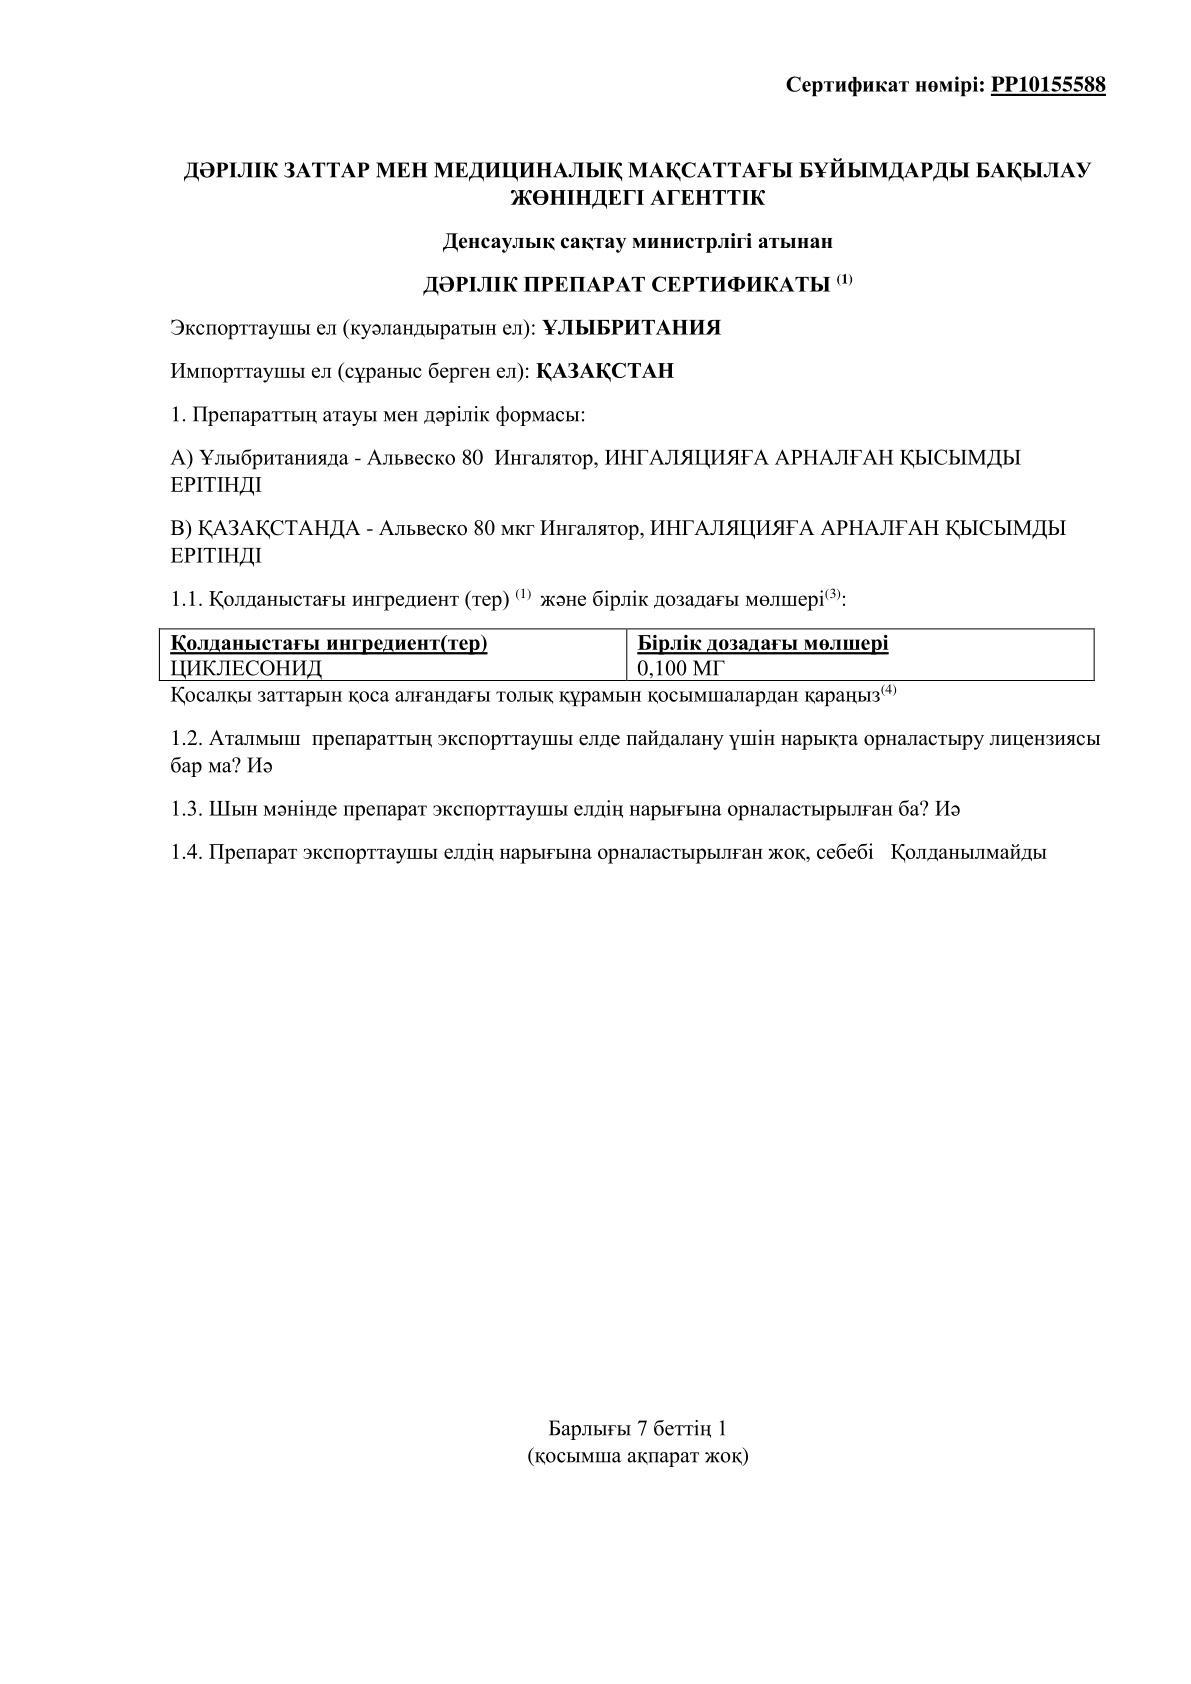partial_lined: (159, 626, 1097, 683)
